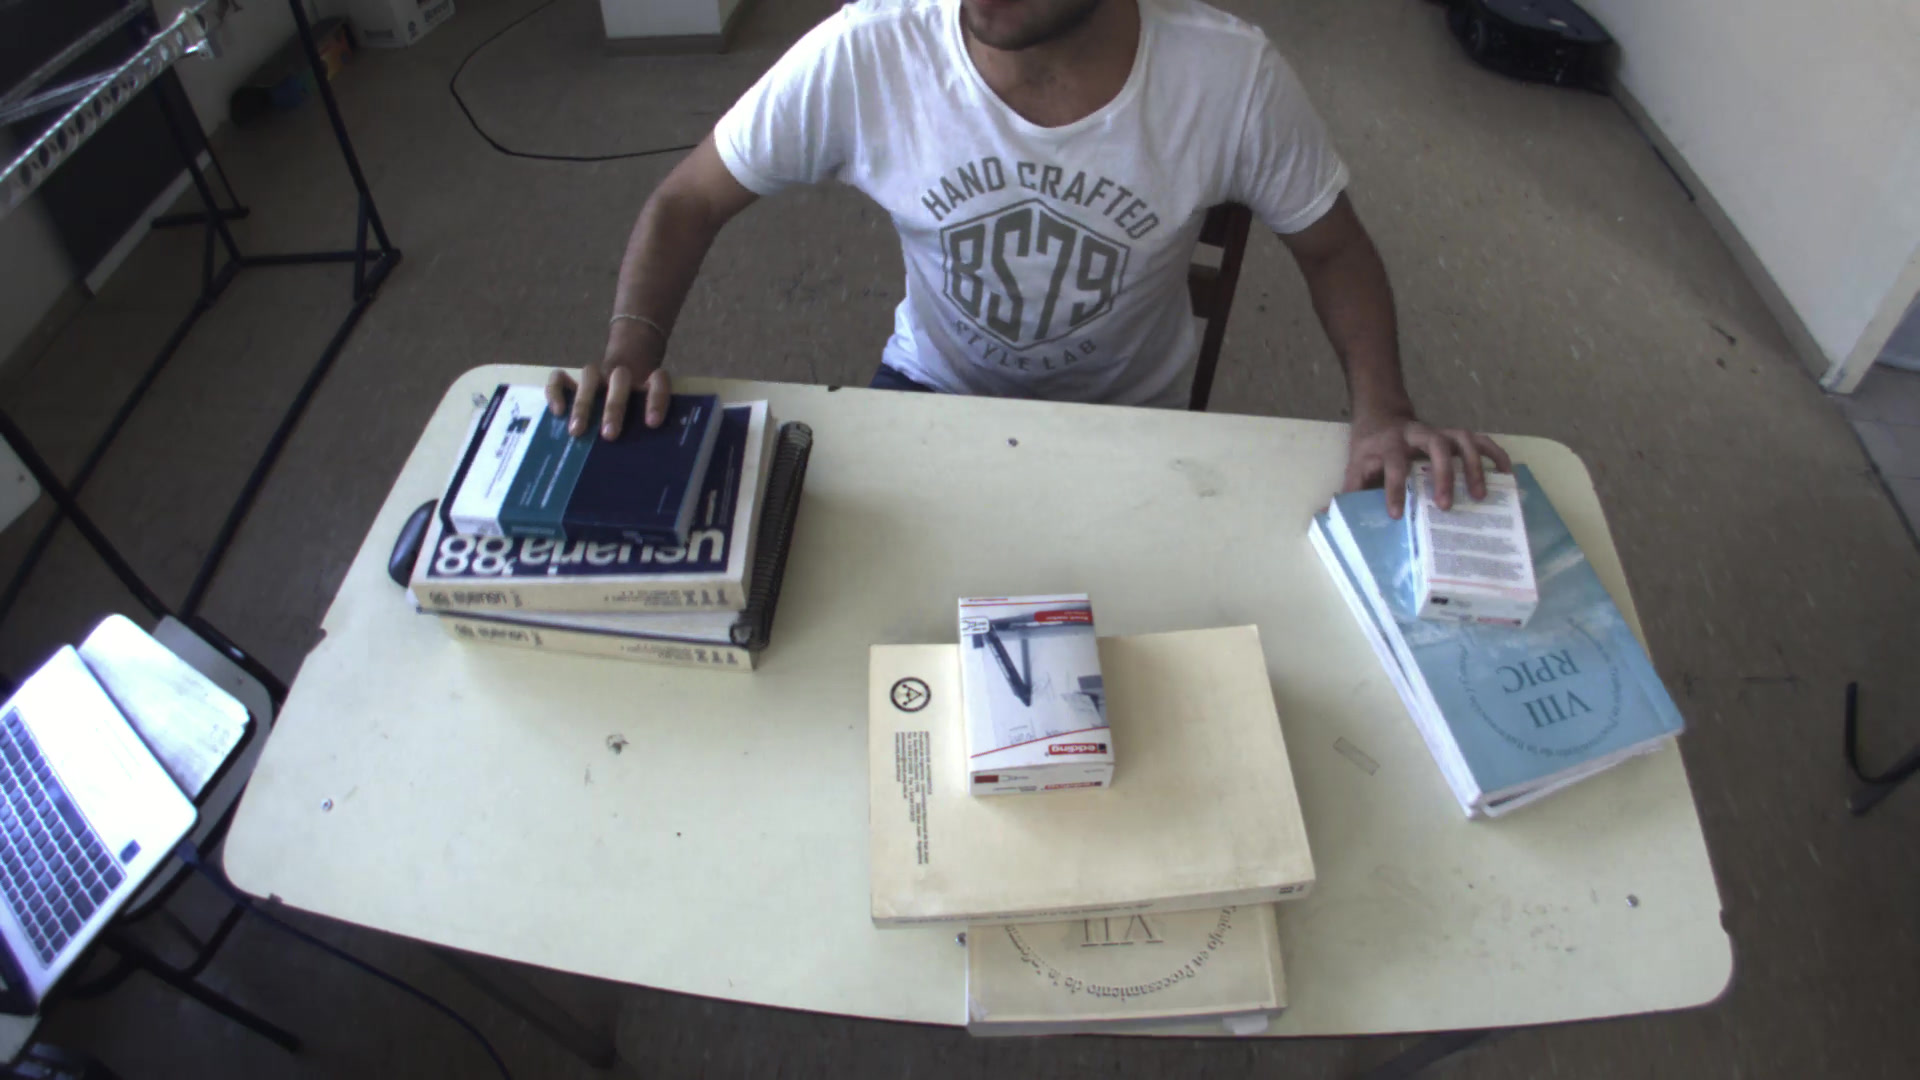hand: (1331, 393, 1520, 512), (530, 316, 687, 438)
